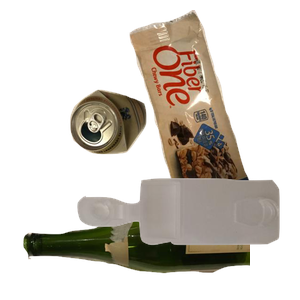glass: (21, 201, 261, 300)
metal: (67, 87, 206, 234)
plastic: (75, 176, 300, 300)
trash: (127, 10, 300, 190)
